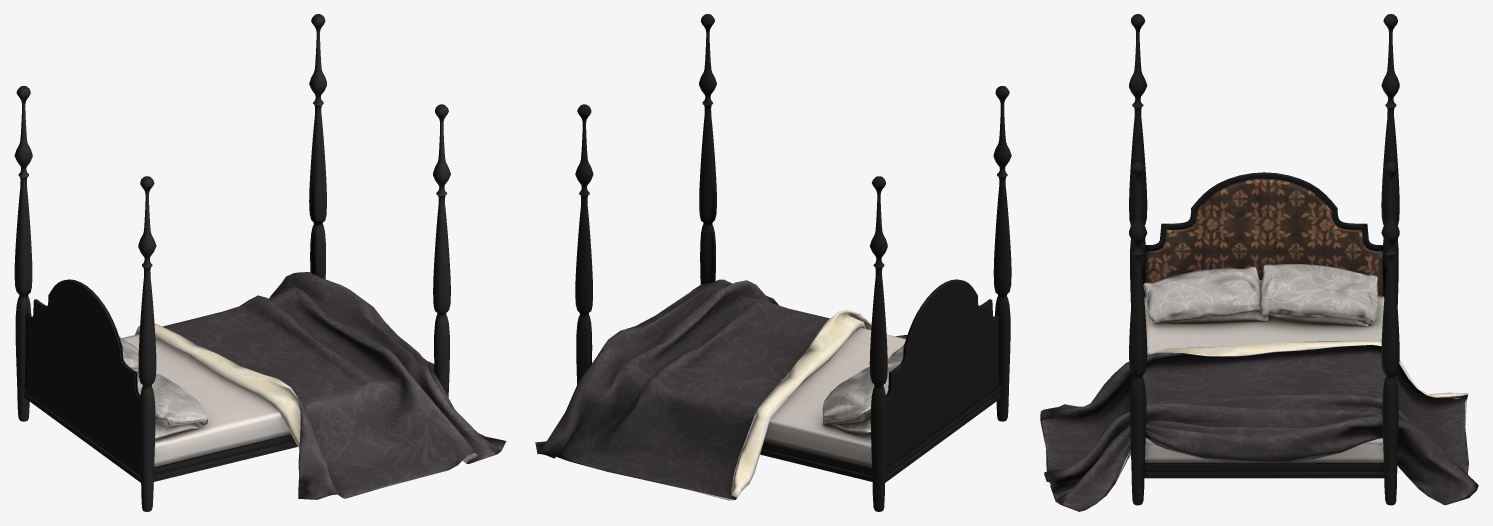
The picture shows the model from 3 angles, left to right: view 1: azimuth 30°, elevation 25°; view 2: azimuth 150°, elevation 25°; view 3: azimuth 270°, elevation 25°; orthographic projection. The views are drawn at different scales.
Visible parts, largest first — view 1: PosterBed1_None1-material, Material-material, BedMattress_PosterBed1_None1_002-material; view 2: PosterBed1_None1-material, Material-material, BedMattress_PosterBed1_None1_002-material; view 3: PosterBed1_None1-material, Material-material, BedMattress_PosterBed1_None1_002-material.
Boxes of the visible parts, x1,y1,x2,y2 form: PosterBed1_None1-material: [135, 272, 506, 499]; Material-material: [14, 14, 450, 511]; BedMattress_PosterBed1_None1_002-material: [119, 334, 290, 467]; PosterBed1_None1-material: [535, 279, 907, 500]; Material-material: [575, 14, 1011, 511]; BedMattress_PosterBed1_None1_002-material: [764, 328, 905, 467]; PosterBed1_None1-material: [1040, 340, 1478, 511]; Material-material: [1129, 14, 1399, 505]; BedMattress_PosterBed1_None1_002-material: [1143, 264, 1384, 463].
Bounding box in the file's own units: 13.09 × 12.32 × 14.33.
Materials: 3 (3 with a texture image).
